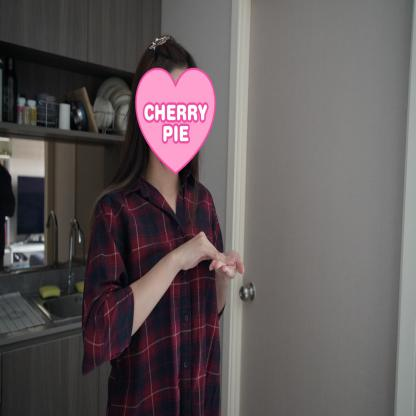Love: (168, 229, 248, 289)
